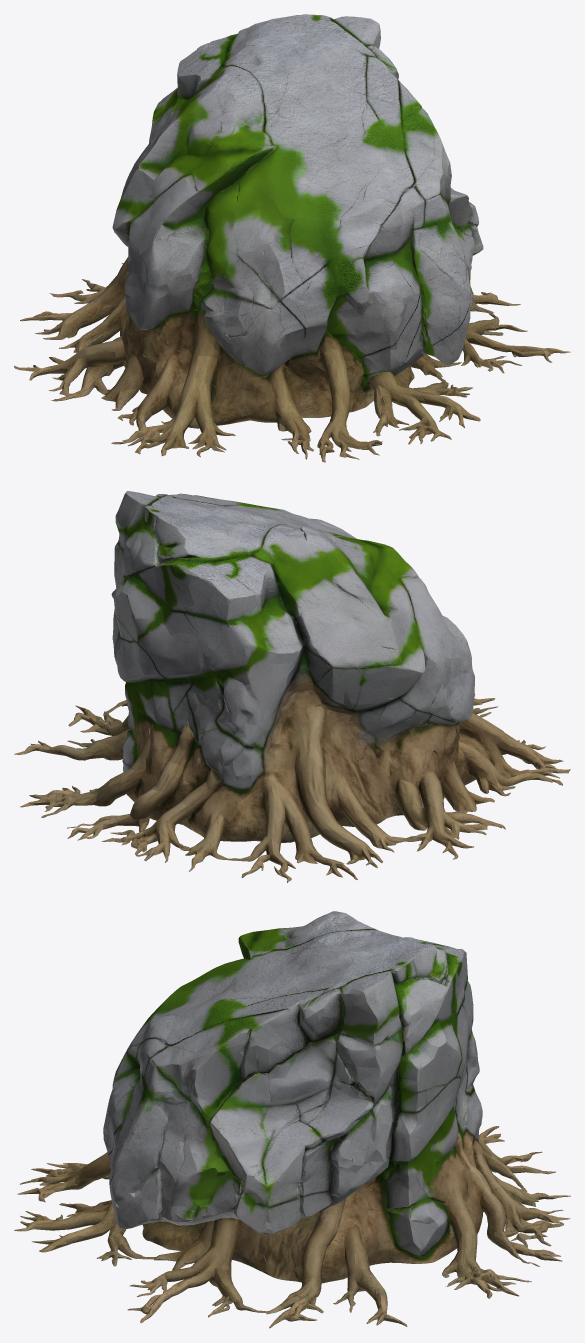
File: forest-rock.glb
3 renders of one model, top to bottom at view 1: azimuth 30°, elevation 25°; view 2: azimuth 150°, elevation 25°; view 3: azimuth 270°, elevation 25°, orthographic. The views are drawn at different scales.
Bounding box in the file's own units: 1.87 × 1.1 × 1.9.
Materials: 1 (1 with a texture image).
